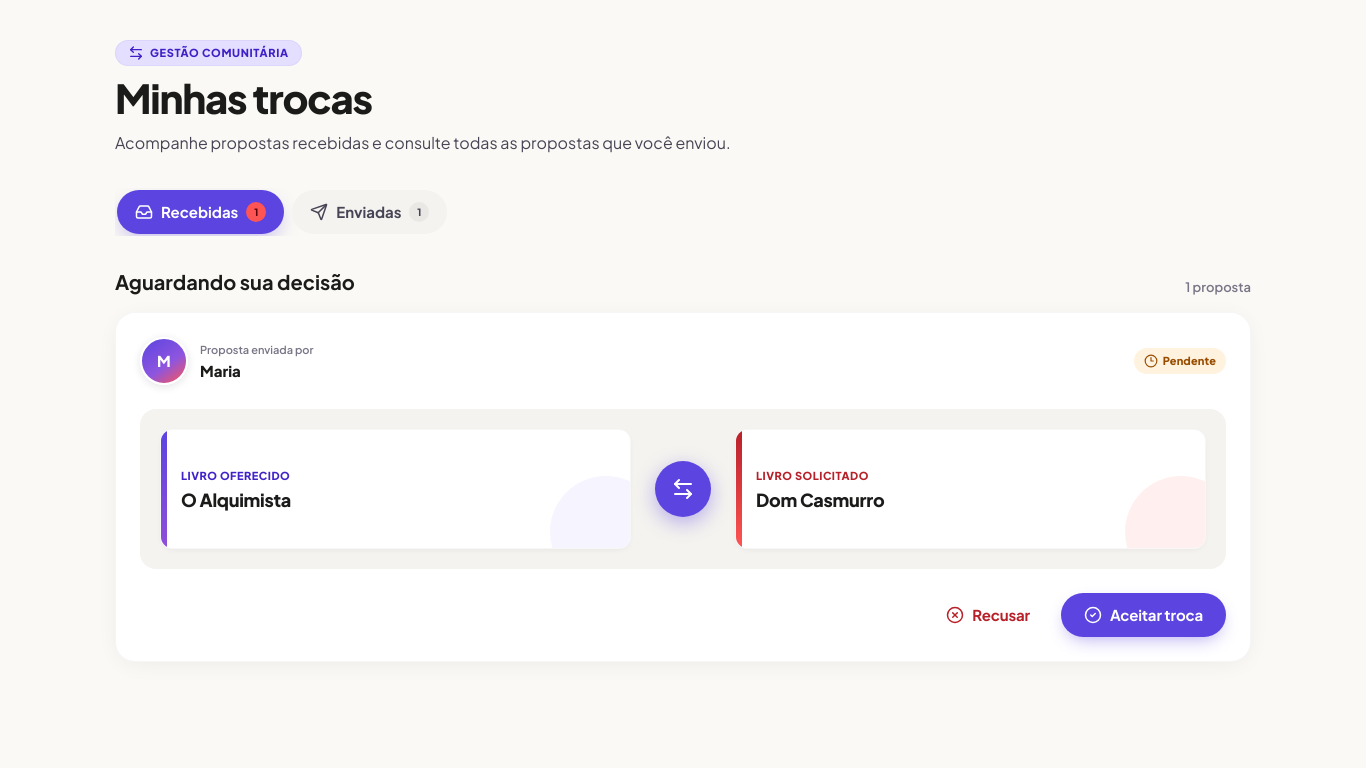
Test case: ExchangesPage › confirma e envia PUT com a ação recusar
This screenshot has width=1366, height=768.
Expected: the text "Maria" is shown, [200,361,241,380]
Click the button "Recusar": (988, 615) [923,593,1053,637]
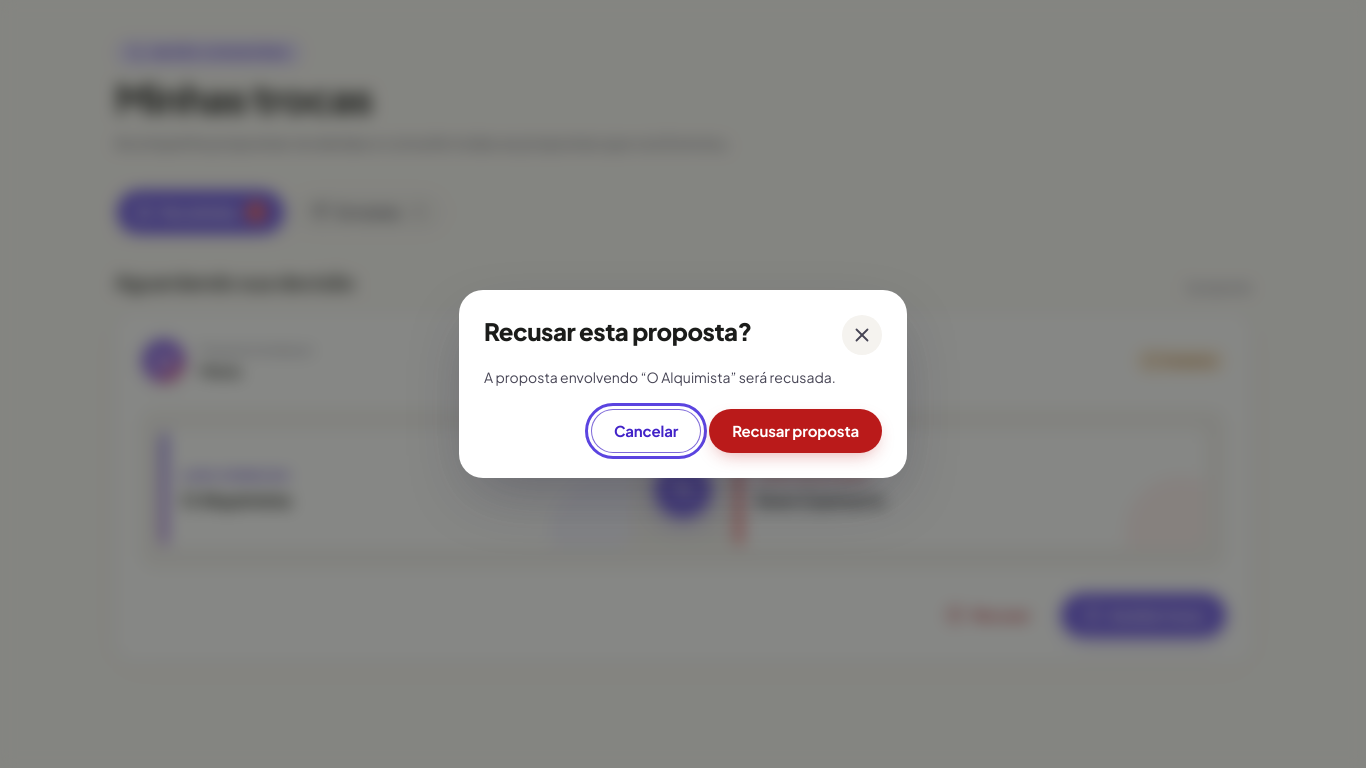
Click the button "Recusar proposta": (796, 431) [709,409,882,453]
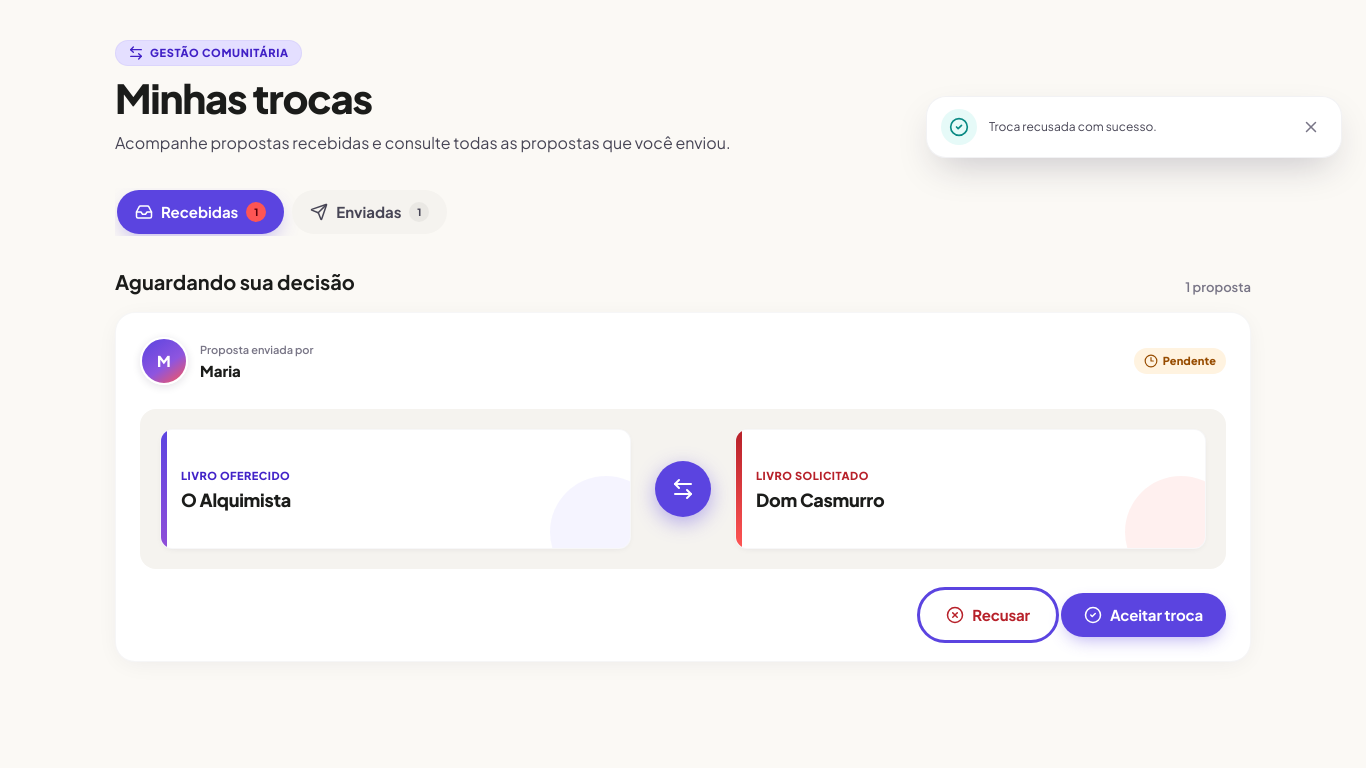
Result: the text "Troca recusada com sucesso." is shown at [989,119,1157,134]
Result: the heading "Recusar esta proposta?" is gone
